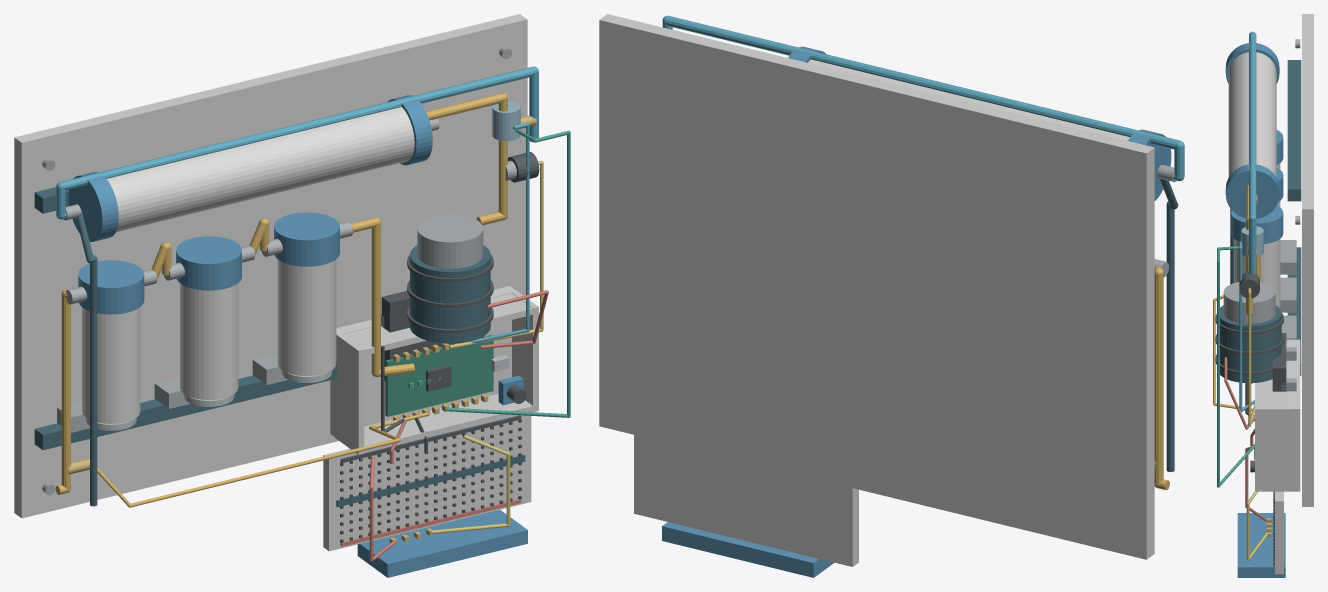
File: clearwell_ro_monitor_full.glb
3 renders of one model, left to right at view 1: azimuth 30°, elevation 25°; view 2: azimuth 150°, elevation 25°; view 3: azimuth 270°, elevation 25°, orthographic. The views are drawn at different scales.
Visible parts, largest first — view 1: 01_backplate_620x440mm, 04_ro_membrane_housing, 13_solderless_breadboard_base, filter_3_housing, filter_2_housing, 14_lcd_module_frame, filter_1_housing, 05_pump_motor, 11_geeky_board_placeholder_PCB, clean_water_blue_3, lower_cartridge_rail, 05_pump_head (+25 smaller); view 2: 01_backplate_620x440mm, 13_solderless_breadboard_base, clean_water_blue_3, 14_lcd_module_frame, waste_water_dark_3, raw_inlet_orange_2, 04_ro_membrane_housing, membrane_cap_-260; view 3: 01_backplate_620x440mm, 04_ro_membrane_housing, enclosure_side_284, 05_pump_motor, 14_lcd_module_frame, upper_membrane_rail, membrane_cap_125, 05_pump_head, 10_electronics_enclosure_base, clean_water_blue_3, filter_3_housing, filter_3_head (+28 smaller).
Boxes of the visible parts, box(x1,y1,x2,y2) form: 01_backplate_620x440mm: box(14, 14, 527, 518); 04_ro_membrane_housing: box(107, 107, 414, 232); 13_solderless_breadboard_base: box(323, 415, 531, 551); filter_3_housing: box(277, 259, 336, 375); filter_2_housing: box(180, 283, 238, 399); 14_lcd_module_frame: box(357, 509, 527, 577); filter_1_housing: box(82, 307, 140, 423); 05_pump_motor: box(410, 245, 490, 343); 11_geeky_board_placeholder_PCB: box(385, 335, 493, 416); clean_water_blue_3: box(61, 67, 535, 190); lower_cartridge_rail: box(34, 362, 337, 450); 05_pump_head: box(417, 214, 483, 268); 01_backplate_620x440mm: box(599, 14, 1154, 559); 13_solderless_breadboard_base: box(634, 435, 858, 566); clean_water_blue_3: box(665, 16, 1179, 149); 14_lcd_module_frame: box(662, 522, 834, 577); waste_water_dark_3: box(1166, 205, 1174, 472); raw_inlet_orange_2: box(1154, 274, 1163, 484); 04_ro_membrane_housing: box(808, 59, 1129, 140); membrane_cap_-260: box(1128, 129, 1171, 200); 01_backplate_620x440mm: box(1302, 14, 1313, 506); 04_ro_membrane_housing: box(1228, 52, 1276, 176); enclosure_side_284: box(1255, 407, 1292, 491); 05_pump_motor: box(1220, 305, 1281, 383); 14_lcd_module_frame: box(1237, 513, 1285, 577); upper_membrane_rail: box(1287, 60, 1301, 201); membrane_cap_125: box(1225, 164, 1279, 218); 05_pump_head: box(1223, 282, 1275, 323); 10_electronics_enclosure_base: box(1288, 339, 1300, 491); clean_water_blue_3: box(1249, 32, 1256, 216); filter_3_housing: box(1234, 239, 1280, 308); filter_3_head: box(1231, 205, 1283, 244).
Size of the model in its own units: 620 by 575 by 135.
